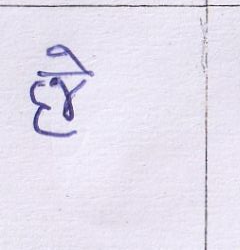u_matra: (29, 107, 77, 140)
